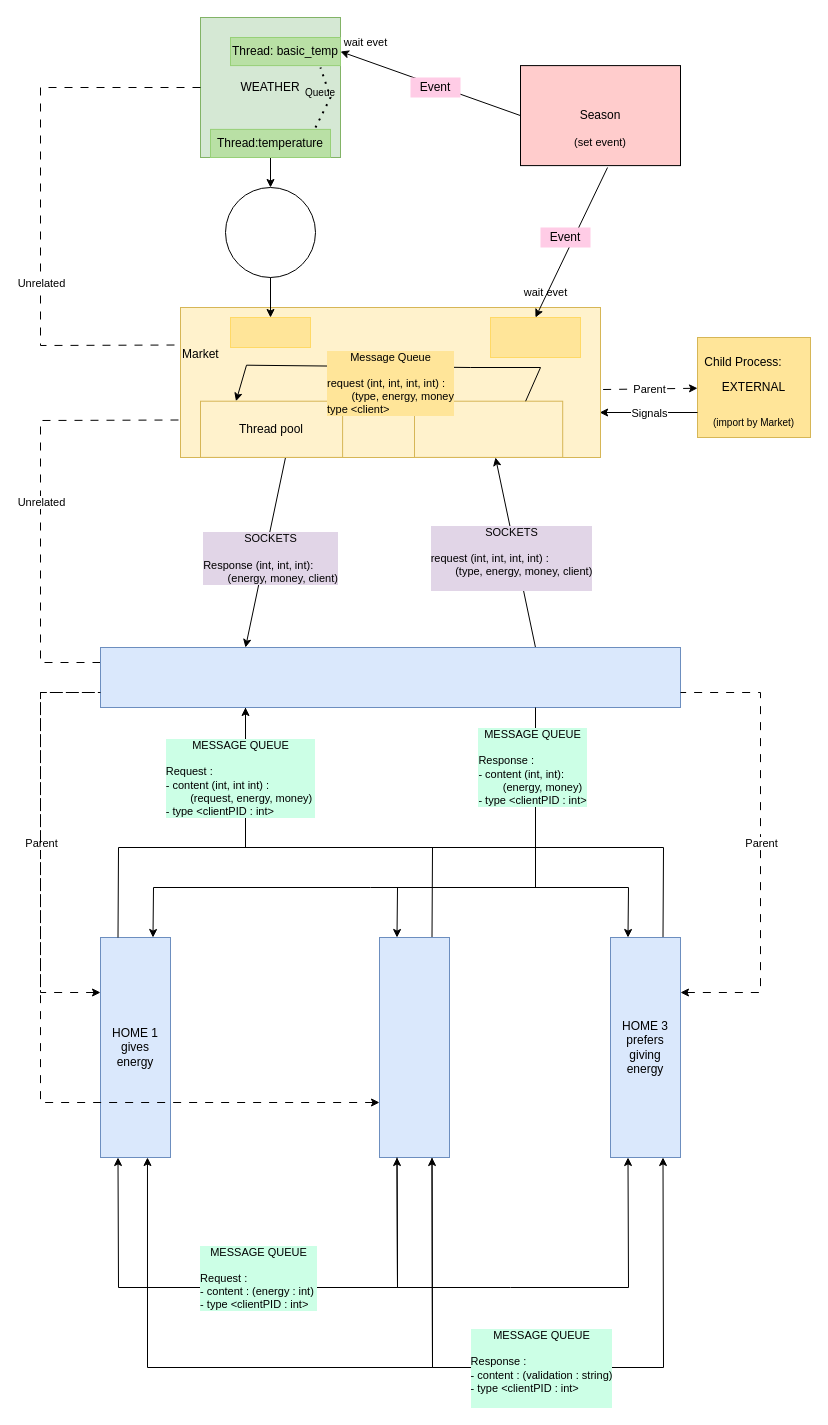
Some shapes in this 828 by 1425 pixel diagram are drawn without their labels. The centre of each missing label's shape, as x and y in pixels:
"Child Process: show_season" goes at (x=535, y=337).
"HOME 2 sells energy on the market" goes at (x=414, y=1047).
"HOMES produce and consume their energy" goes at (x=390, y=677).
"Main thread" goes at (x=488, y=428).
"Shared memory: meteo_shared" goes at (x=270, y=232).
"Thread: show_weather" goes at (x=270, y=332).
